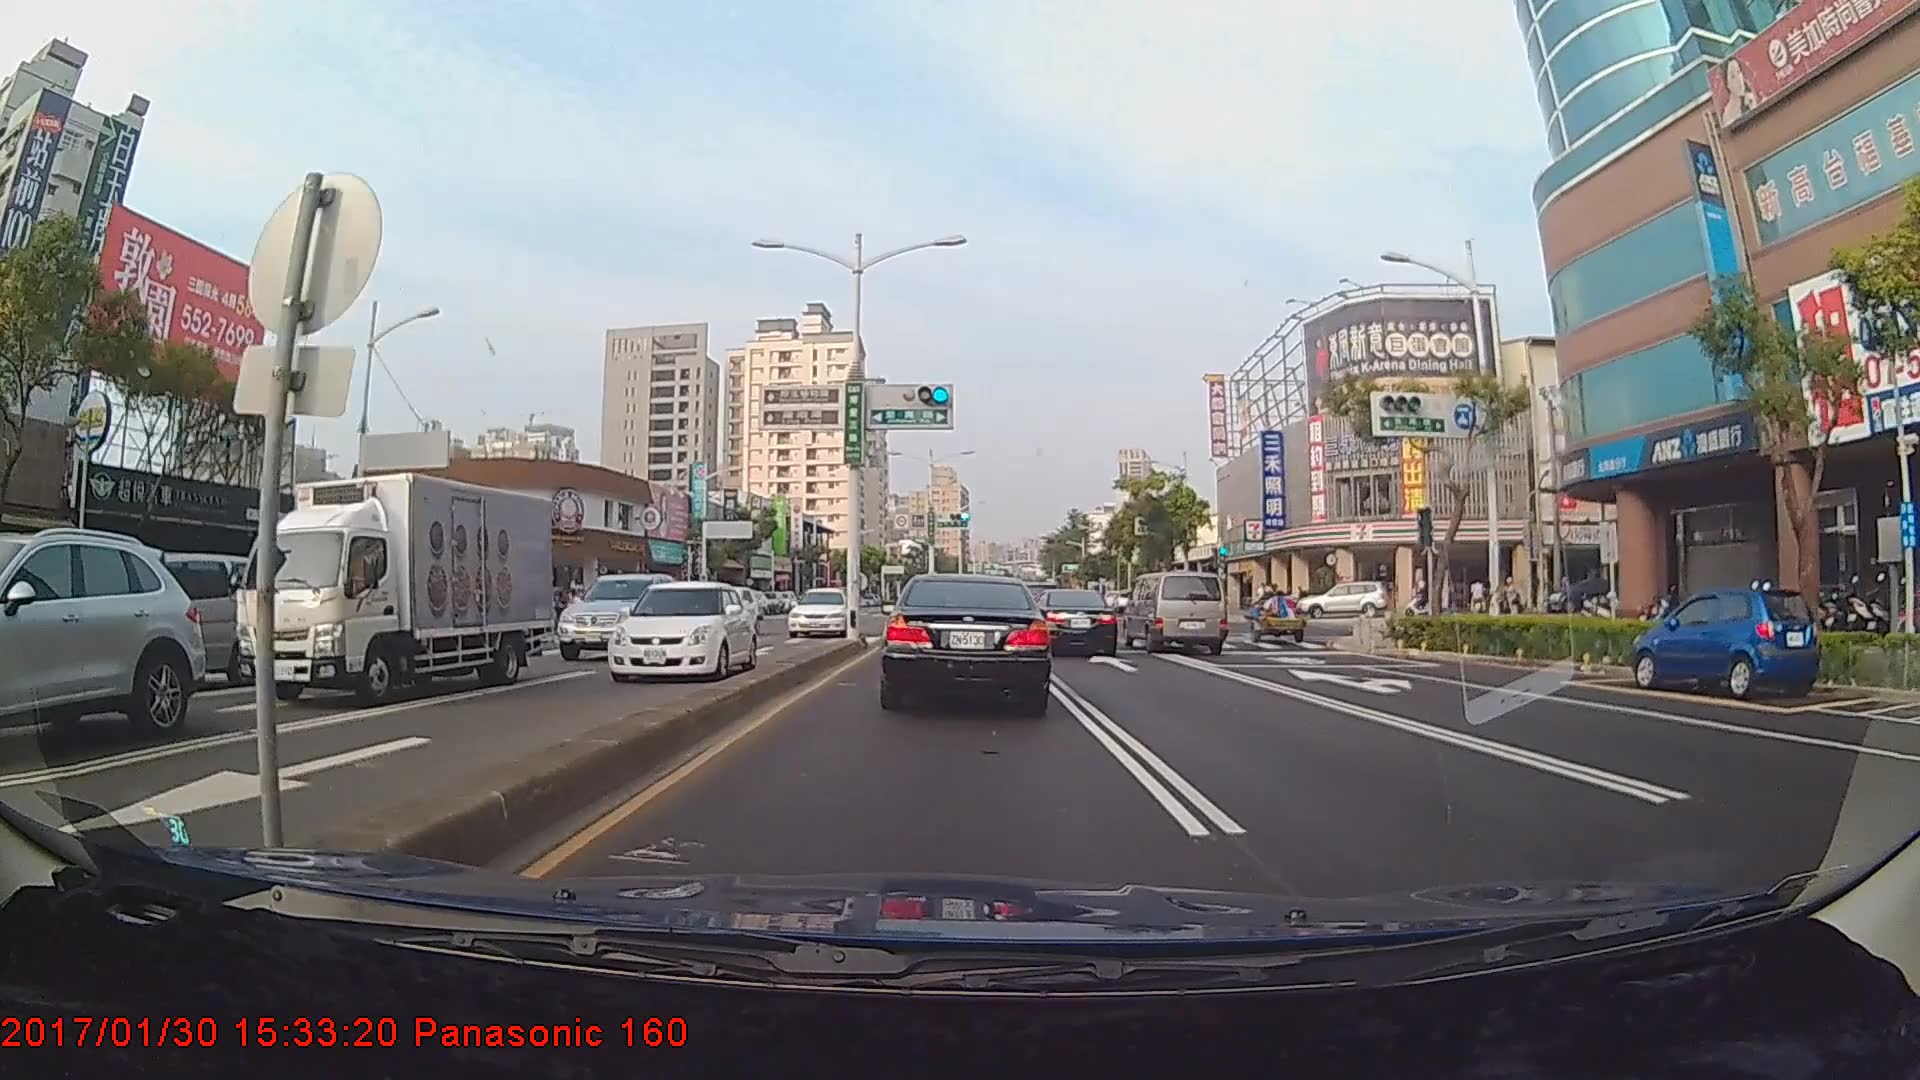vehicle: (222, 460, 566, 713), (0, 527, 196, 764), (73, 549, 256, 684), (884, 572, 1052, 711), (1631, 585, 1817, 699), (604, 578, 760, 680), (547, 566, 682, 659), (1121, 570, 1228, 655), (1033, 588, 1118, 657), (1294, 582, 1393, 620), (786, 584, 855, 636)
